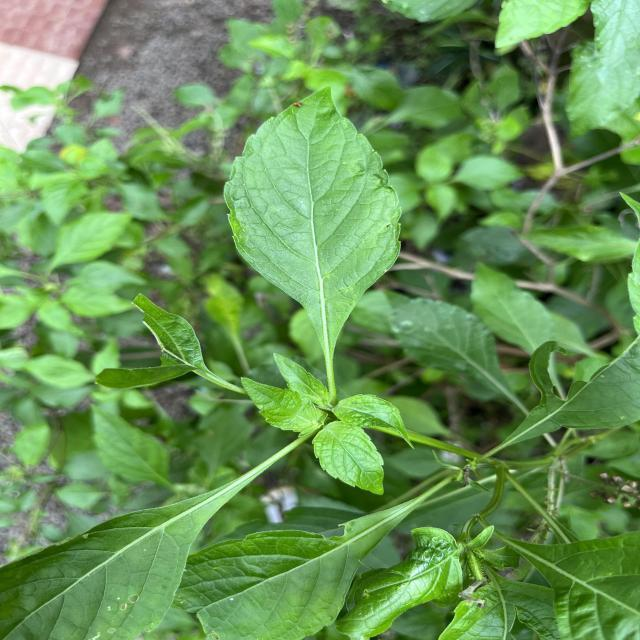Ocimum gratissimum: (222, 83, 406, 363)
